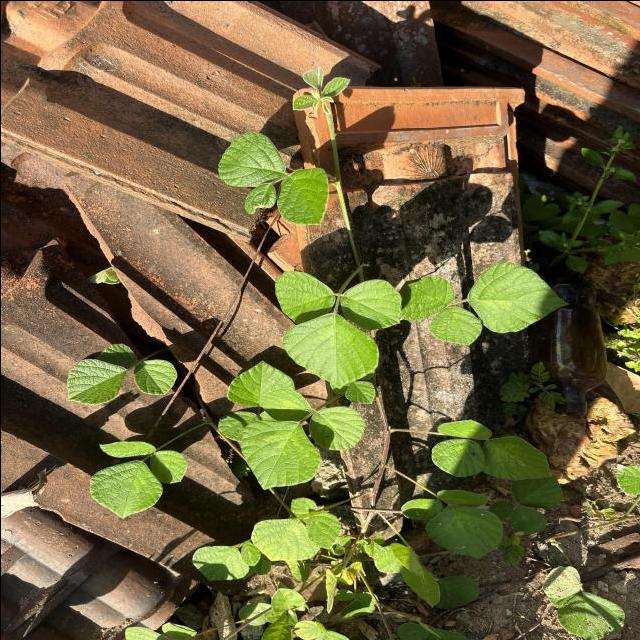Pseudarthria viscida: (272, 268, 402, 389), (400, 260, 570, 346), (240, 386, 366, 490), (88, 439, 187, 519), (430, 417, 552, 480), (399, 488, 503, 560), (65, 342, 178, 405)
